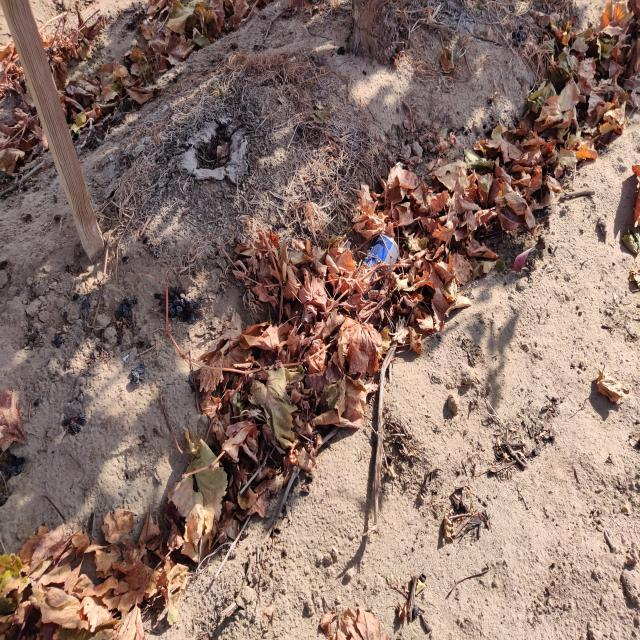litter: (351, 232, 400, 303)
